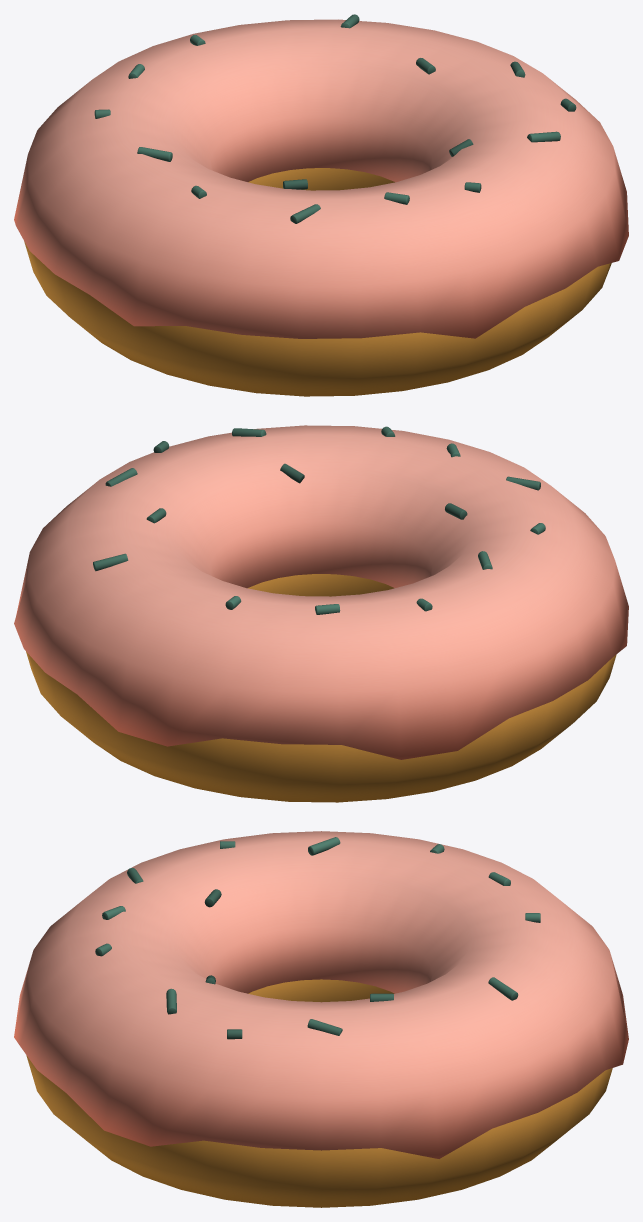
Rendered from Low_Donut.fbx.
3 renders of one model, top to bottom at view 1: azimuth 30°, elevation 25°; view 2: azimuth 150°, elevation 25°; view 3: azimuth 270°, elevation 25°, orthographic.
Visible parts, largest first — view 1: Low_Donut; view 2: Low_Donut; view 3: Low_Donut.
Part boxes in pixels (x1=…): Low_Donut: x1=14, y1=14, x2=628, y2=396; Low_Donut: x1=14, y1=425, x2=628, y2=802; Low_Donut: x1=14, y1=831, x2=628, y2=1207.
Bounding box in the file's own units: 20.02 × 6.87 × 20.02.
